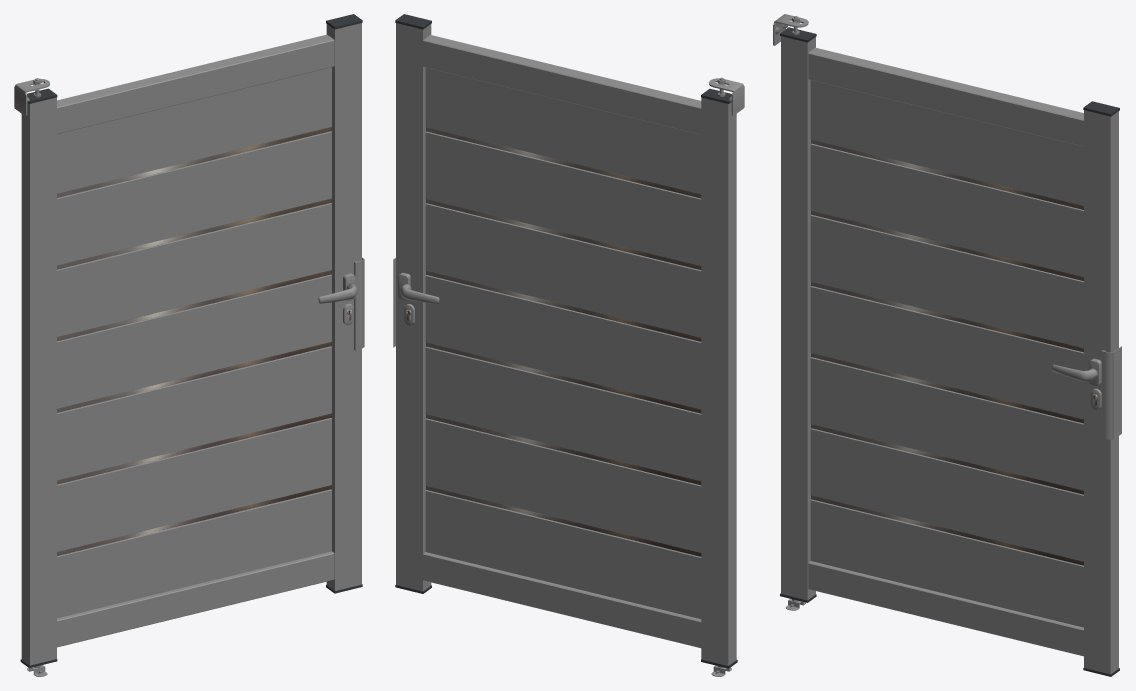
3 renders of one model, left to right at view 1: azimuth 30°, elevation 25°; view 2: azimuth 150°, elevation 25°; view 3: azimuth 330°, elevation 25°, orthographic.
Visible parts, largest first — view 1: Shape107412643, Shape177, Shape189, Shape185, Shape172, Shape181, Shape171, Shape193, Shape107412638, Shape164, Shape163, Shape186 (+7 smaller); view 2: Shape107412643, Shape177, Shape185, Shape172, Shape189, Shape181, Shape171, Shape193, Shape107412638, Shape164, Shape163, Shape186 (+6 smaller); view 3: Shape177, Shape185, Shape172, Shape189, Shape181, Shape107412638, Shape171, Shape107412643, Shape193, Shape164, Shape163, Shape107412637 (+6 smaller).
Boxes of the visible parts, bbox=[...] form: Shape107412643: bbox=[21, 97, 56, 665]; Shape177: bbox=[57, 346, 331, 480]; Shape189: bbox=[57, 131, 331, 265]; Shape185: bbox=[57, 203, 331, 336]; Shape172: bbox=[57, 418, 331, 551]; Shape181: bbox=[57, 274, 331, 408]; Shape171: bbox=[57, 489, 331, 618]; Shape193: bbox=[57, 67, 331, 193]; Shape107412638: bbox=[326, 23, 361, 590]; Shape164: bbox=[57, 34, 334, 134]; Shape163: bbox=[57, 551, 334, 647]; Shape186: bbox=[57, 198, 331, 269]; Shape107412643: bbox=[701, 97, 736, 665]; Shape177: bbox=[425, 346, 701, 480]; Shape185: bbox=[425, 203, 701, 337]; Shape172: bbox=[425, 418, 701, 552]; Shape189: bbox=[425, 131, 701, 265]; Shape181: bbox=[425, 275, 701, 409]; Shape171: bbox=[425, 490, 701, 618]; Shape193: bbox=[425, 67, 701, 194]; Shape107412638: bbox=[396, 23, 431, 591]; Shape164: bbox=[423, 35, 701, 134]; Shape163: bbox=[423, 552, 701, 648]; Shape186: bbox=[426, 199, 701, 269]; Shape177: bbox=[810, 357, 1083, 490]; Shape185: bbox=[810, 215, 1083, 348]; Shape172: bbox=[810, 428, 1083, 561]; Shape189: bbox=[810, 143, 1083, 276]; Shape181: bbox=[810, 286, 1083, 419]; Shape107412638: bbox=[1084, 110, 1118, 674]; Shape171: bbox=[810, 499, 1083, 627]; Shape107412643: bbox=[781, 36, 815, 600]; Shape193: bbox=[810, 80, 1083, 205]; Shape164: bbox=[808, 47, 1083, 146]; Shape163: bbox=[808, 561, 1083, 656]; Shape107412637: bbox=[1101, 346, 1121, 439].
Bounding box in the file's own units: 1015 × 1688 × 152.
7 materials, 4 textured.
